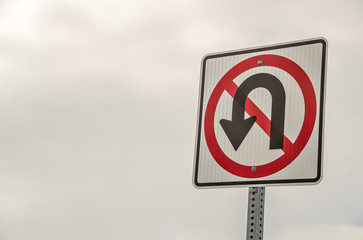No_u_turn: (203, 54, 316, 178)
